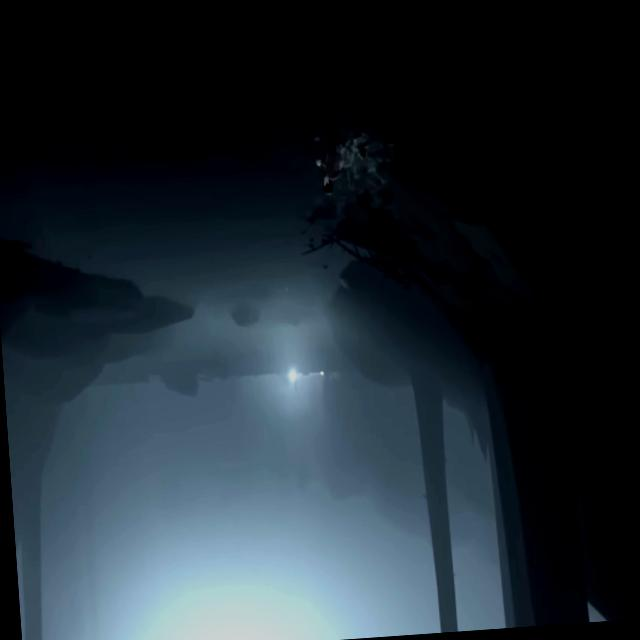boy: (315, 144, 343, 196)
